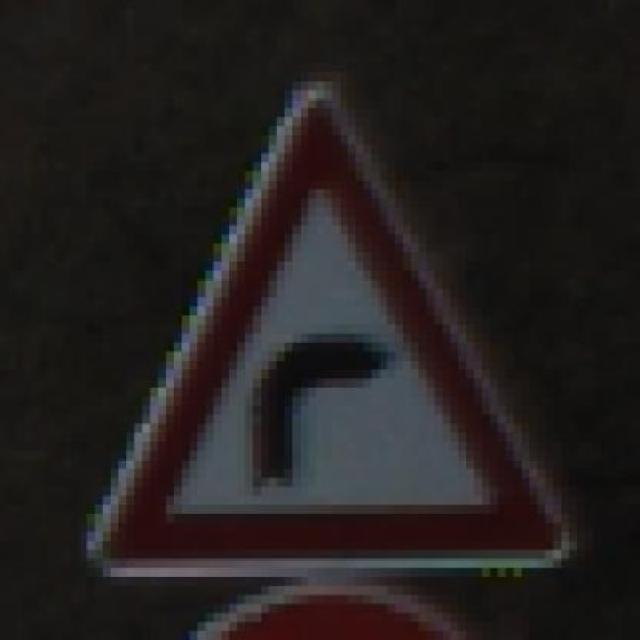Dangerous Rright Curve Ahead: (87, 63, 593, 586)
